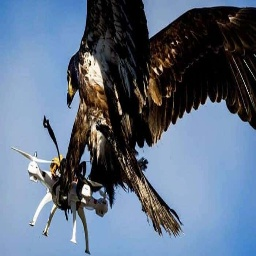Bird: (49, 0, 254, 251)
UAV: (9, 114, 114, 256)
